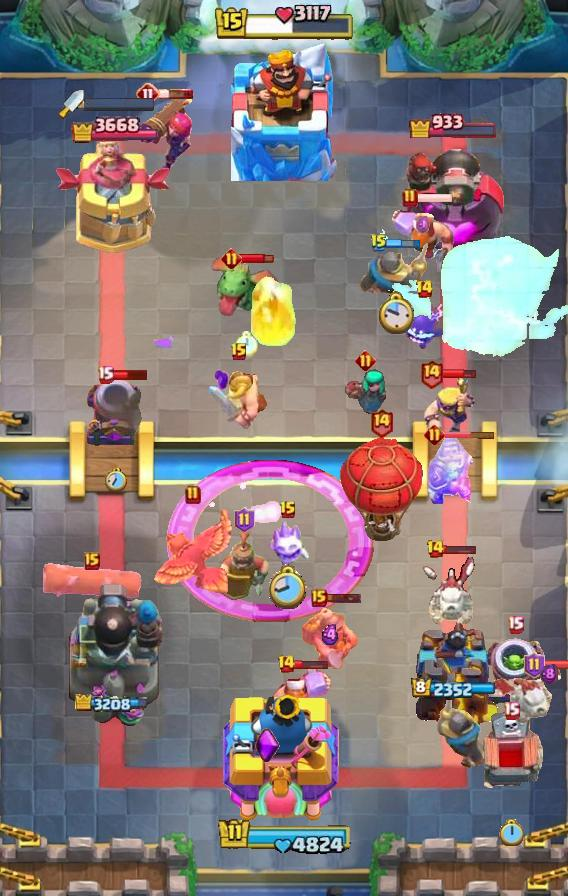arrows: (422, 376, 477, 436)
bandit: (299, 600, 361, 672)
bar: (55, 142, 173, 256)
cannon-cart: (338, 436, 424, 544)
clock: (213, 3, 355, 43), (214, 817, 354, 857)
earthquake: (219, 526, 269, 602)
electro-spirit: (320, 624, 341, 646), (540, 663, 558, 685), (417, 215, 431, 233)
electro-wizard: (209, 254, 283, 320)
elixir: (268, 565, 307, 611), (377, 291, 414, 336), (499, 818, 523, 845), (235, 331, 258, 357), (105, 468, 127, 492)
elixir-golem-mid: (476, 711, 546, 797)
emote: (442, 429, 496, 439), (111, 368, 148, 381), (441, 368, 477, 381), (416, 192, 453, 204), (326, 592, 363, 604), (158, 88, 194, 100), (238, 252, 273, 264), (295, 658, 330, 670), (387, 238, 422, 249), (442, 544, 477, 555), (542, 658, 568, 669)
firecracker: (359, 242, 431, 297), (436, 700, 487, 770)
firecracker-evolution: (426, 436, 473, 504)
goblin-cage: (84, 379, 148, 449), (483, 637, 547, 707)
goblin-giant: (206, 366, 272, 430)
golden-knight: (152, 506, 234, 594)
king-tower: (223, 689, 345, 826), (231, 43, 337, 181)
king-tower-bar: (84, 97, 156, 111)
knight-evolution: (166, 459, 374, 622)
mega-knight: (376, 215, 568, 361)
mega-minion: (136, 91, 196, 177)
mighty-miner: (391, 203, 455, 273), (268, 666, 332, 730)
mini-pekka: (480, 663, 568, 723), (418, 552, 478, 628)
minion: (41, 558, 143, 602)
mirror: (266, 518, 310, 572)
queen-tower: (405, 617, 501, 731)
selected: (70, 113, 157, 147), (409, 110, 500, 138), (412, 678, 497, 700), (75, 693, 153, 714)
skeleton-king-skill: (254, 727, 280, 763)
spear-goblin: (403, 304, 445, 350)
text: (419, 359, 444, 390), (369, 406, 394, 437), (136, 82, 160, 106), (233, 507, 254, 533), (524, 652, 545, 678), (424, 423, 445, 445), (222, 247, 243, 268), (355, 350, 376, 371), (414, 279, 434, 299), (276, 654, 296, 674), (427, 539, 446, 559), (370, 233, 388, 253), (230, 342, 248, 362), (279, 500, 297, 520), (98, 365, 115, 384), (508, 615, 525, 634), (503, 701, 520, 720), (402, 188, 418, 208), (185, 485, 201, 505), (84, 552, 100, 570), (311, 589, 327, 607)
tower-bar: (63, 579, 165, 731), (401, 138, 505, 256)
valkyrie: (245, 275, 299, 351)
witch: (343, 368, 387, 414)
